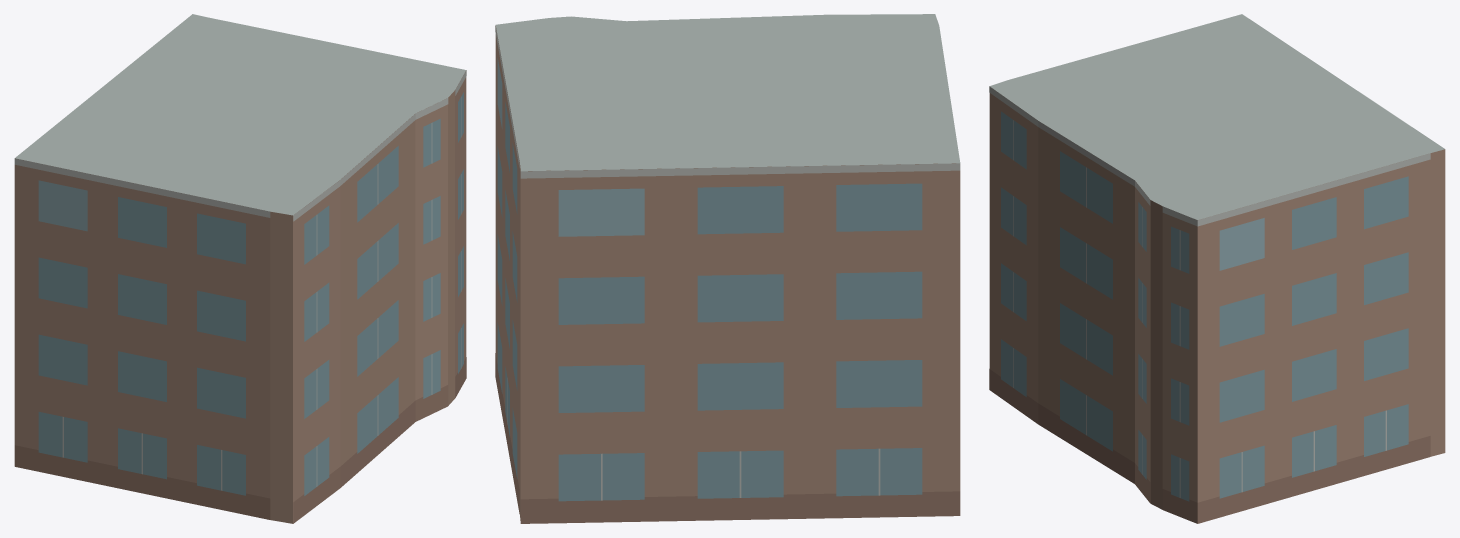
File: survey-upis-32683736.glb
3 views of the same model, side by side, from view 1: azimuth 30°, elevation 25°; view 2: azimuth 150°, elevation 25°; view 3: azimuth 270°, elevation 25° (orthographic). The views are drawn at different scales.
Parts seen in each view (by area): view 1: survey-upis-32683736.tmp; view 2: survey-upis-32683736.tmp; view 3: survey-upis-32683736.tmp.
Part boxes in pixels (x1=…): survey-upis-32683736.tmp: x1=14, y1=14, x2=466, y2=523; survey-upis-32683736.tmp: x1=495, y1=14, x2=960, y2=523; survey-upis-32683736.tmp: x1=989, y1=14, x2=1445, y2=523.
Size of the model in its own units: 17.04 by 11.7 by 15.93.
